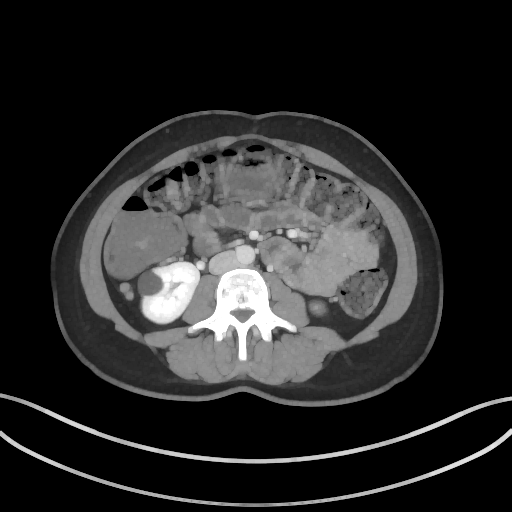Lesion: (133, 268, 164, 301)
